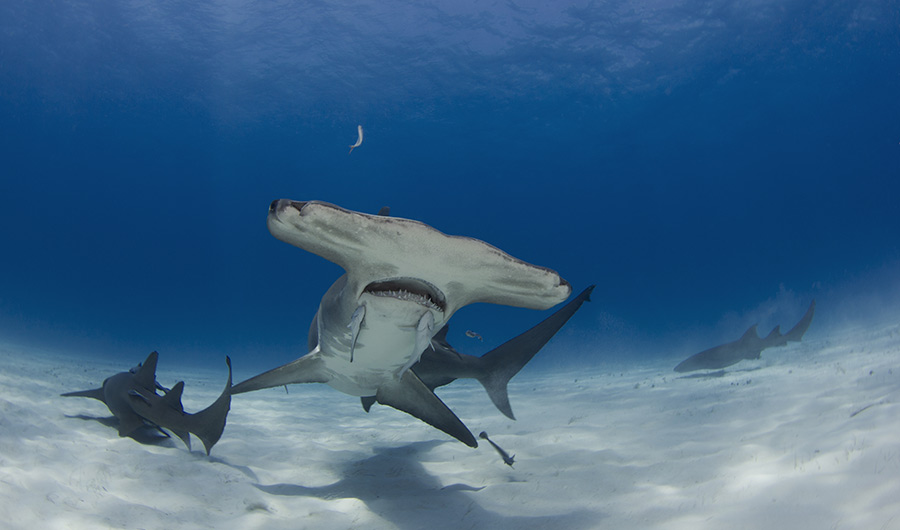shark: (221, 186, 598, 462), (50, 340, 266, 457), (672, 297, 817, 380)
